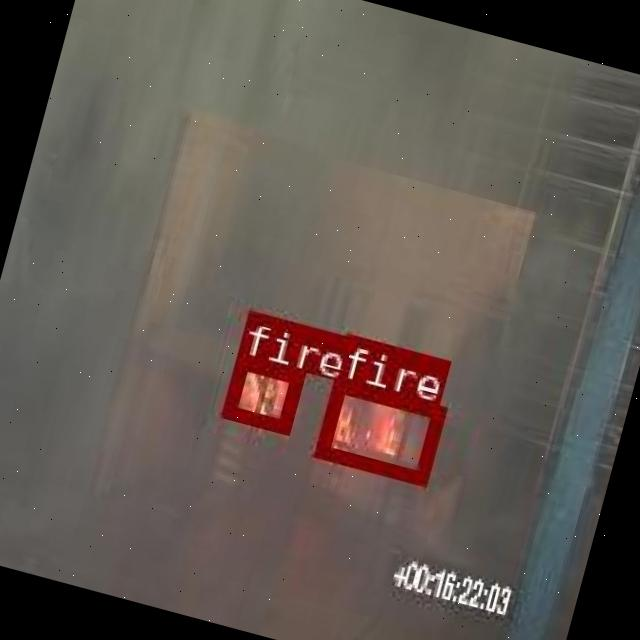fire: (312, 374, 442, 481), (220, 352, 304, 432)
